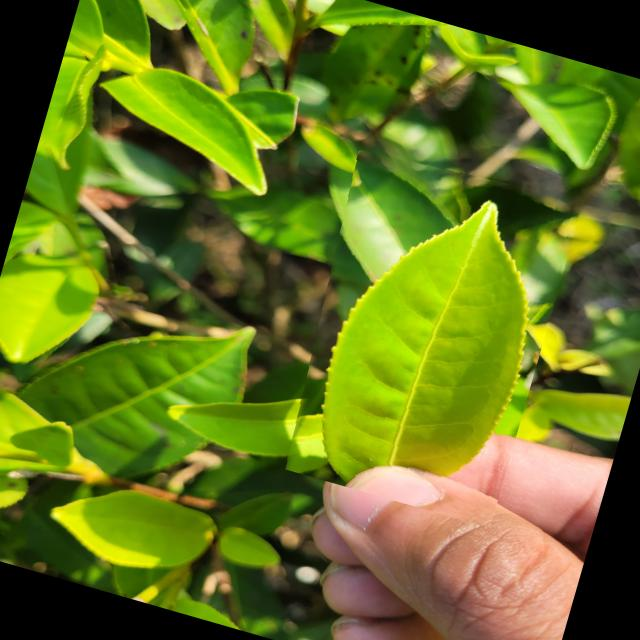Category B 2-4 days: (268, 137, 584, 528)
